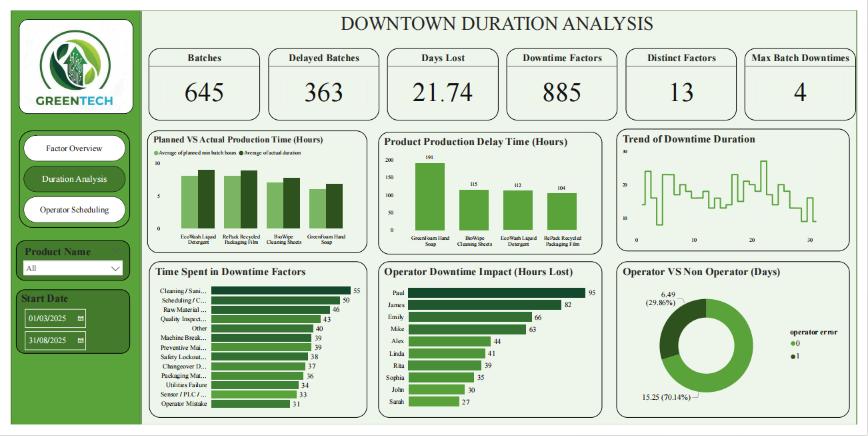

Layout of this report page (visuals, bound fields, positions):
{"tool":"powerbi","page":{"name":"Duration Analysis","canvas":[1900,930],"ordinal":1},"visuals":[{"type":"shape","box":[292.9,0,1607.1,930.5],"z":0},{"type":"shape","box":[0,0,289.9,930.5],"z":1000},{"type":"textbox","box":[289.9,0,1607.1,71.9],"z":2000},{"type":"cardVisual","title":"Batches","fields":{"Data":["CountNonNull(batch_pd.batch_id)"]},"box":[309.4,84.7,250,162],"z":3000},{"type":"cardVisual","title":"Delayed Batches","fields":{"Data":["Count(downtimes.batch_id)"]},"box":[577.6,84.7,249.5,161.8],"z":4000},{"type":"cardVisual","title":"Days Lost","fields":{"Data":["Sum(downtimes.days)"]},"box":[845.3,84.7,249.5,161.8],"z":5000},{"type":"cardVisual","title":"Downtime Factors","fields":{"Data":["CountNonNull(downtimes.factor_id)"]},"box":[1112.9,84.7,249.5,161.8],"z":6000},{"type":"cardVisual","title":"Distinct Factors","fields":{"Data":["Count(downtimes.factor_id)"]},"box":[1380.6,84.7,249.5,161.8],"z":7000},{"type":"cardVisual","title":"Max Batch Downtimes","fields":{"Data":["downtimes.max downtime per batch"]},"box":[1648.3,84.7,249.5,161.8],"z":8000},{"type":"clusteredColumnChart","title":"Planned VS Actual Production Time (Hours)","fields":{"Category":["products.product_name"],"Y":["Avg(batch_pd.planned_min_batch_hours)","Avg(batch_pd.actual_duration)"]},"box":[305.7,270.5,494.5,275],"z":9000},{"type":"columnChart","title":"Product Production Delay Time (Hours) ","fields":{"Category":["products.product_name"],"Y":["Sum(downtimes.hours)"]},"box":[824.9,272.7,503.5,275],"z":10000},{"type":"lineChart","title":"Trend of Downtime Duration","fields":{"Category":["batch_pd.start_date.Variation.Date Hierarchy.Year","batch_pd.start_date.Variation.Date Hierarchy.Quarter","batch_pd.start_date.Variation.Date Hierarchy.Month","batch_pd.start_date.Variation.Date Hierarchy.Day"],"Y":["Sum(downtimes.hours)"]},"box":[1359.8,266,523.7,275],"z":11000},{"type":"barChart","title":"Time Spent in Downtime Factors","fields":{"Category":["downtime_factors.factor_name"],"Y":["Sum(downtimes.hours)"]},"box":[310.2,564.2,490,350.6],"z":12000},{"type":"barChart","title":"Operator Downtime Impact (Hours Lost)","fields":{"Category":["batch_pd.operator"],"Y":["Sum(downtimes.hours)"]},"box":[824.9,564.2,503.5,350.6],"z":13000},{"type":"donutChart","title":"Operator VS Non Operator (Days)","fields":{"Category":["downtime_factors.operator_error"],"Y":["Sum(downtimes.days)"]},"box":[1359.8,564.2,523.7,350.6],"z":14000},{"type":"slicer","fields":{"Values":["products.product_name"]},"box":[11.2,517,256.2,89.9],"z":15000},{"type":"slicer","title":"Start Date","fields":{"Values":["batch_pd.start_date"]},"box":[11.2,627.1,256.2,143.8],"z":16000},{"type":"image","box":[18,20.2,256.2,211.3],"z":17000},{"type":"pageNavigator","box":[18,269.7,249.5,218],"z":18000}]}

Visuals, with their boxes in screenshot pixels (x1, y1, x2, y2), scaled from the page's 1900x930 canvas onto the 868x436 screenshot:
shape: <bbox>134, 0, 867, 435</bbox>
shape: <bbox>0, 0, 132, 435</bbox>
textbox: <bbox>132, 0, 867, 34</bbox>
"Batches" cardVisual: <bbox>141, 40, 256, 116</bbox>
"Delayed Batches" cardVisual: <bbox>264, 40, 378, 116</bbox>
"Days Lost" cardVisual: <bbox>386, 40, 500, 116</bbox>
"Downtime Factors" cardVisual: <bbox>508, 40, 622, 116</bbox>
"Distinct Factors" cardVisual: <bbox>631, 40, 745, 116</bbox>
"Max Batch Downtimes" cardVisual: <bbox>753, 40, 867, 116</bbox>
"Planned VS Actual Production Time (Hours)" clusteredColumnChart: <bbox>140, 127, 366, 256</bbox>
"Product Production Delay Time (Hours) " columnChart: <bbox>377, 128, 607, 257</bbox>
"Trend of Downtime Duration" lineChart: <bbox>621, 125, 860, 254</bbox>
"Time Spent in Downtime Factors" barChart: <bbox>142, 265, 366, 429</bbox>
"Operator Downtime Impact (Hours Lost)" barChart: <bbox>377, 265, 607, 429</bbox>
"Operator VS Non Operator (Days)" donutChart: <bbox>621, 265, 860, 429</bbox>
slicer - products.product_name: <bbox>5, 242, 122, 285</bbox>
"Start Date" slicer: <bbox>5, 294, 122, 361</bbox>
image: <bbox>8, 9, 125, 109</bbox>
pageNavigator: <bbox>8, 126, 122, 229</bbox>
